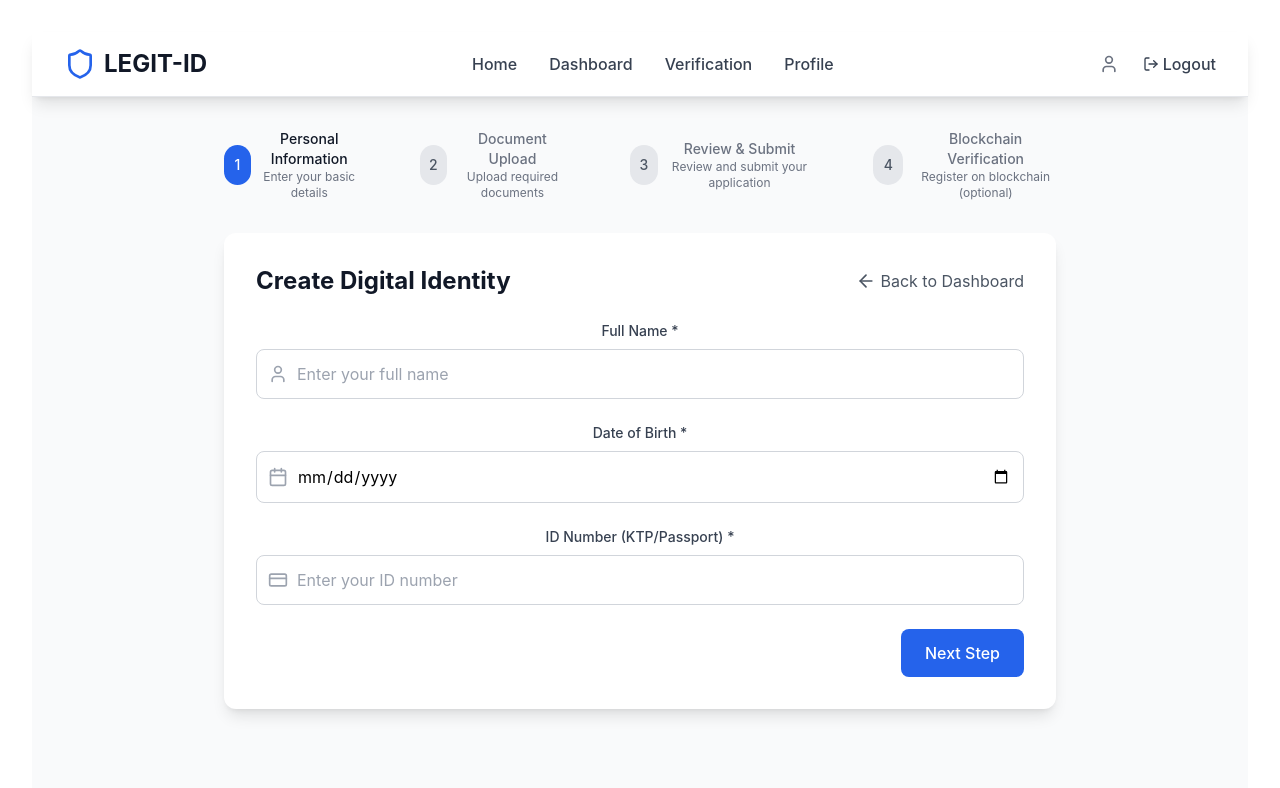
Test: IdentityCreatePage › shows step 3: Review & Submit with all data
The image size is (1280, 788).
Fill all steps up to 3
In the field labelled "Full Name *": {"x": 640, "y": 374} x1=256 y1=349 x2=1024 y2=399, type "John Doe"
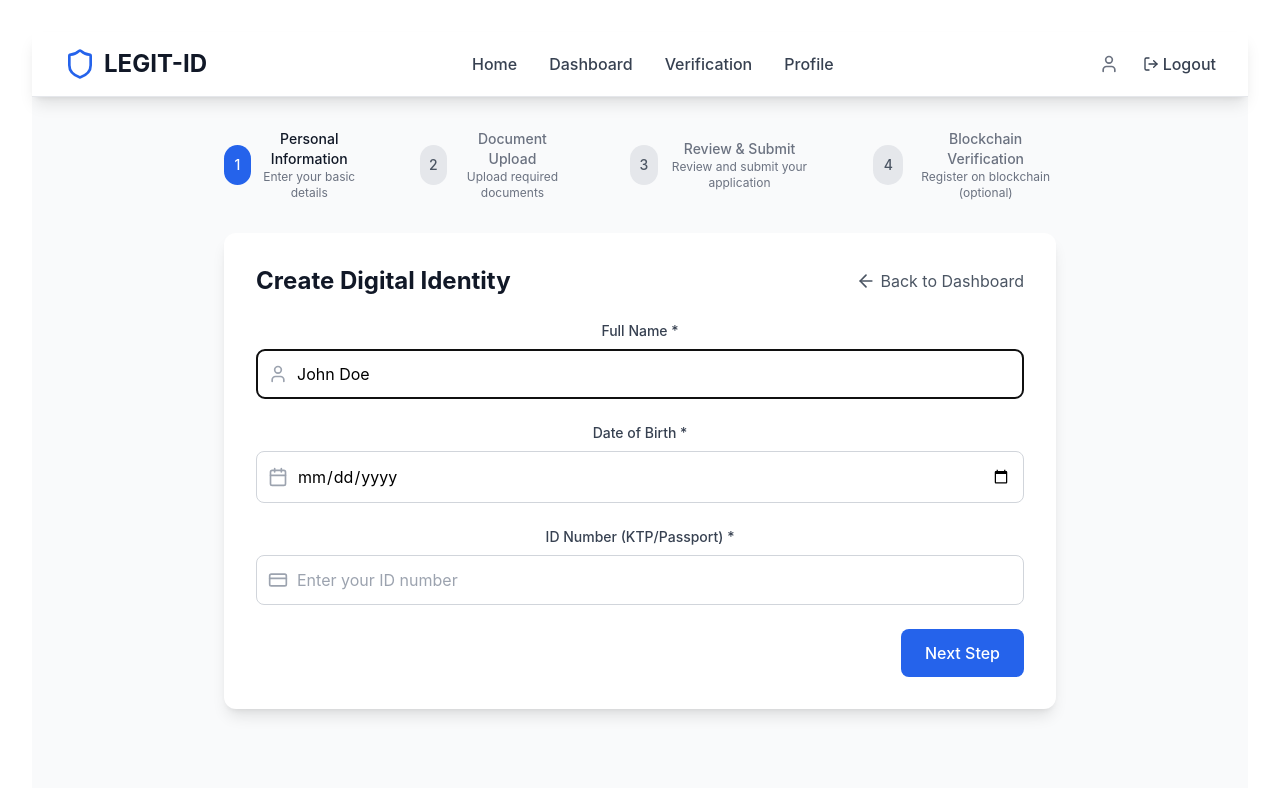
In the date field labelled "Date of Birth *": {"x": 640, "y": 477} x1=256 y1=451 x2=1024 y2=503, type "1990-01-01"
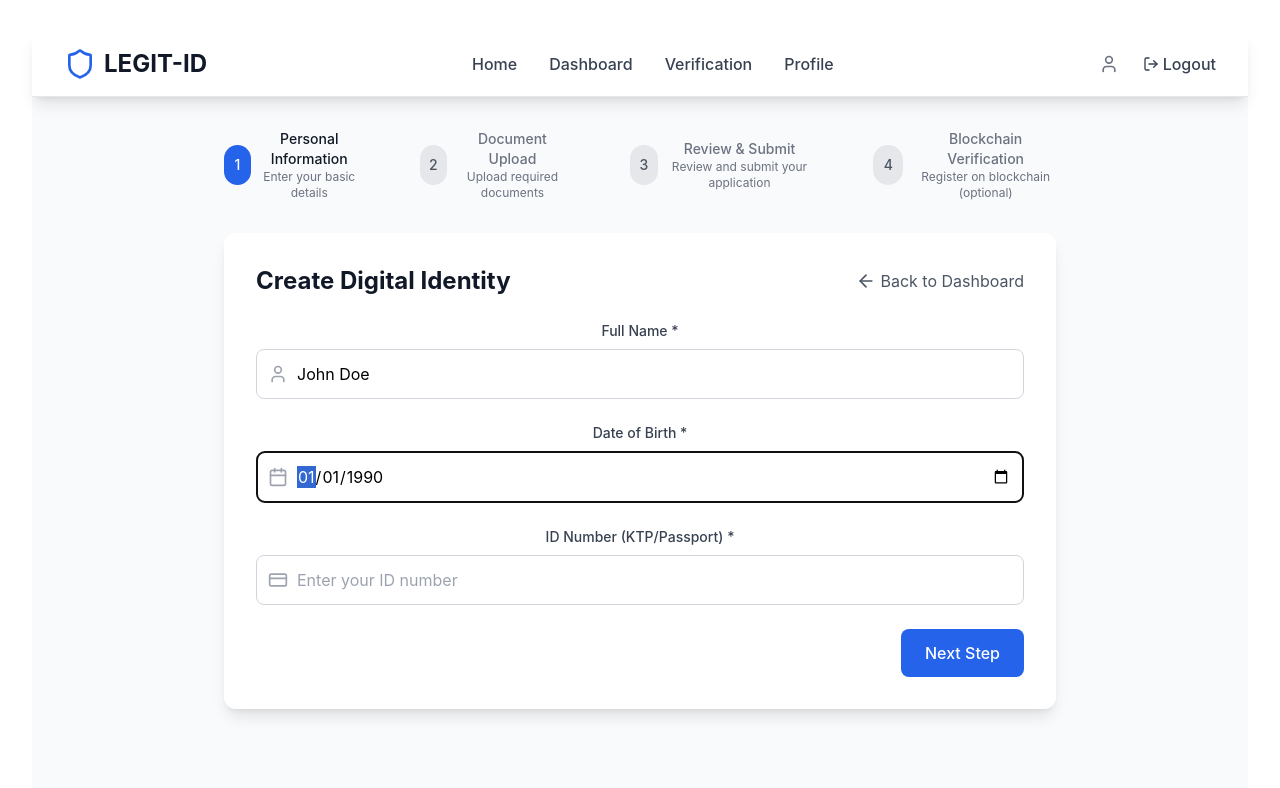
In the field labelled "ID Number (KTP/Passport) *": {"x": 640, "y": 580} x1=256 y1=555 x2=1024 y2=605, type "1234567890"
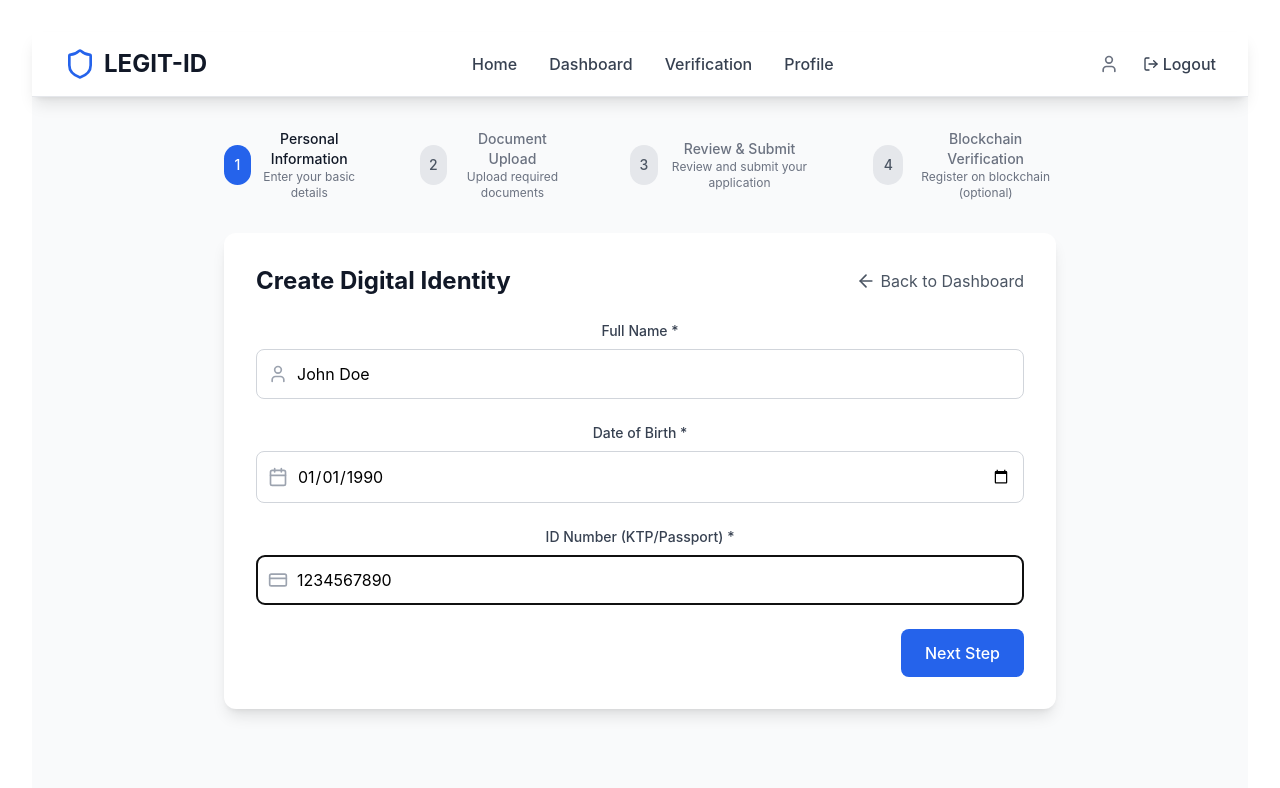
Click the button "Next Step": {"x": 962, "y": 653} x1=901 y1=629 x2=1024 y2=677
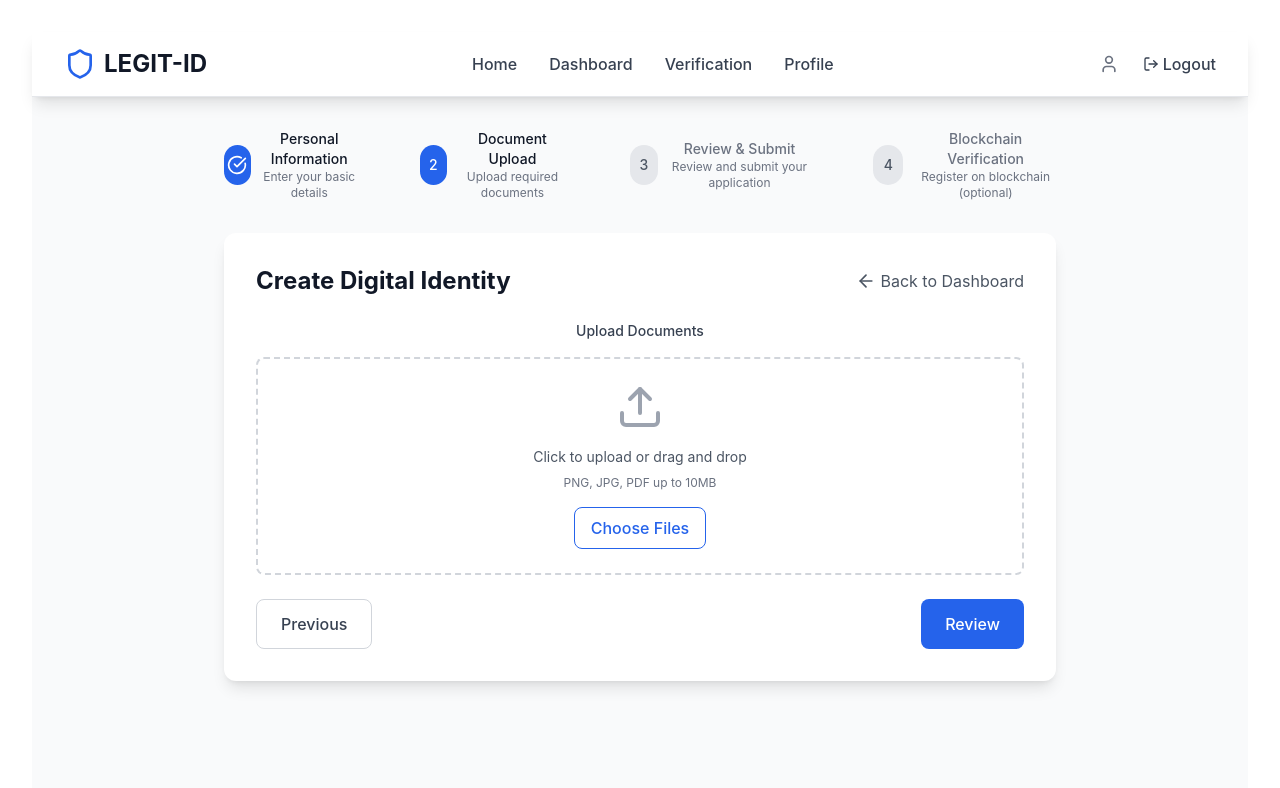
Result: the text "Upload Documents" is shown at x1=576 y1=322 x2=704 y2=339
Click the button "Review": {"x": 973, "y": 624} x1=921 y1=599 x2=1024 y2=649
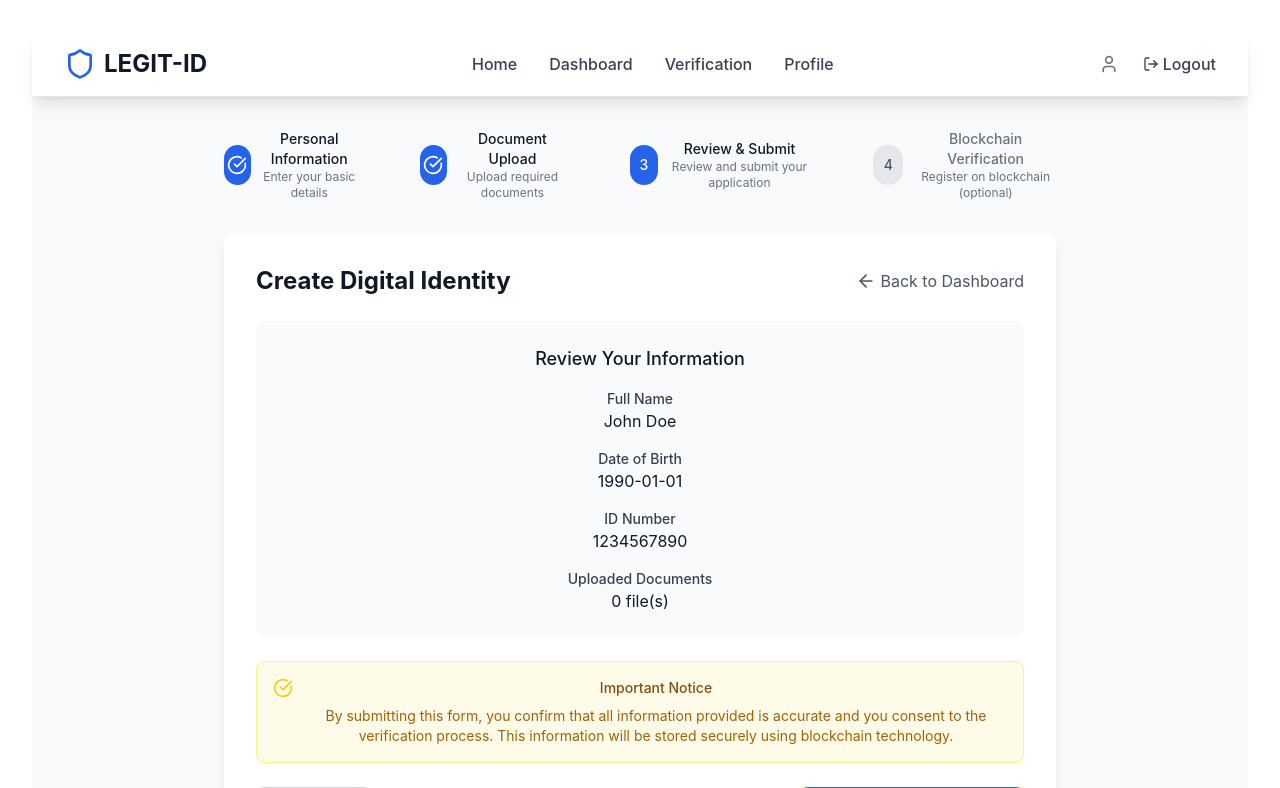
Result: the text "John Doe" is shown at x1=604 y1=411 x2=676 y2=431
Result: the text "1990-01-01" is shown at x1=598 y1=471 x2=682 y2=491
Result: the text "1234567890" is shown at x1=593 y1=531 x2=687 y2=551
